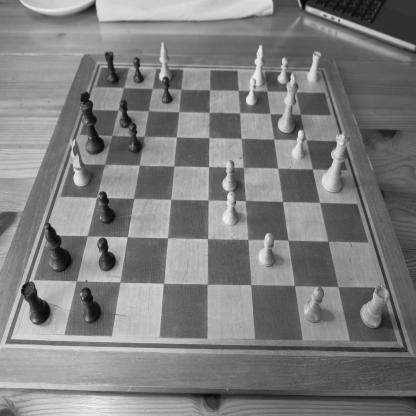black-bishop: (44, 222, 72, 273)
black-king: (78, 90, 105, 156)
black-pawn: (79, 286, 102, 325), (96, 237, 116, 272), (98, 190, 115, 225), (128, 122, 142, 153), (119, 99, 133, 129), (161, 76, 173, 105), (132, 57, 144, 84)
black-rook: (20, 280, 51, 326), (104, 50, 119, 85)
white-bishop: (250, 44, 265, 87), (158, 41, 172, 82)
white-king: (277, 72, 299, 134)
white-knight: (70, 138, 92, 188)
white-pawn: (303, 285, 324, 324), (258, 232, 275, 268), (222, 191, 239, 226), (222, 160, 237, 192), (291, 129, 306, 160), (276, 56, 289, 85), (245, 78, 258, 106)
white-queen: (321, 132, 350, 194)
white-rook: (360, 285, 390, 329), (306, 50, 322, 84)
